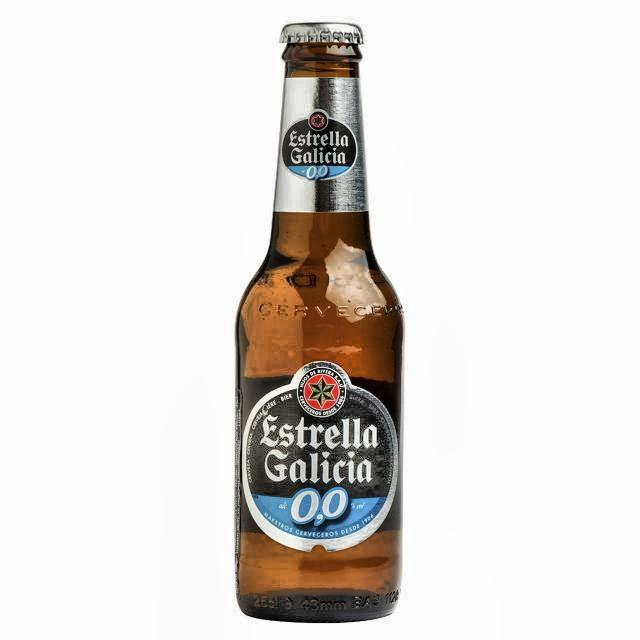glass: (235, 22, 404, 626)
